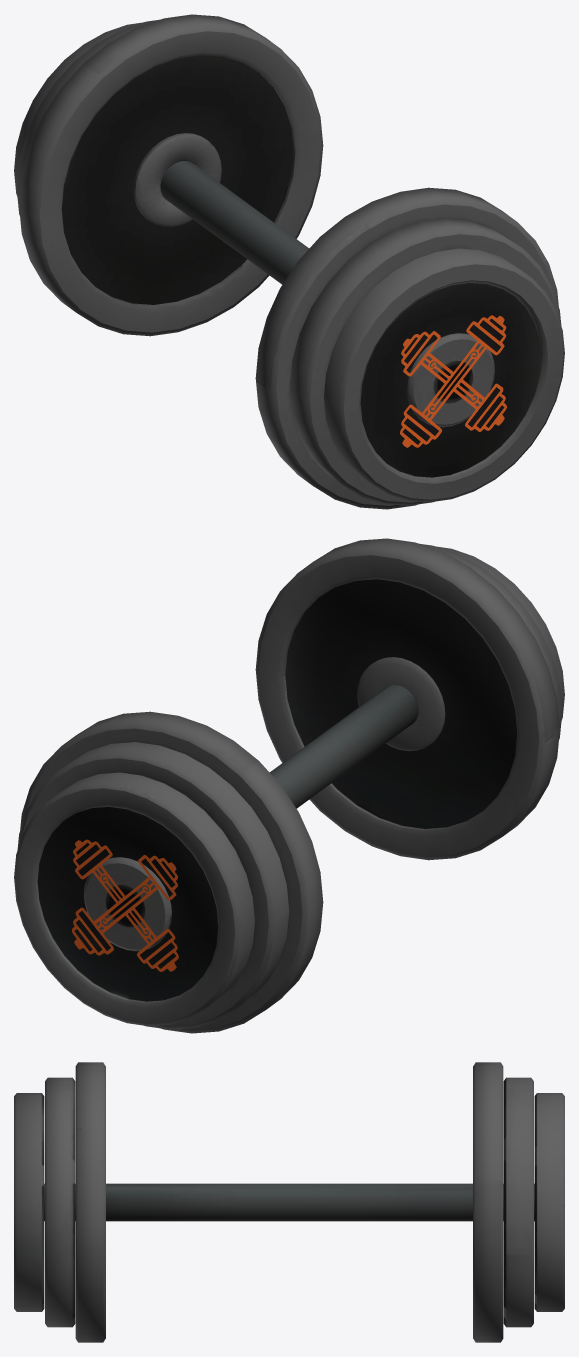
Rendered from dumbbell.glb.
The picture shows the model from 3 angles, top to bottom: view 1: azimuth 30°, elevation 25°; view 2: azimuth 150°, elevation 25°; view 3: azimuth 270°, elevation 25°; orthographic projection. The views are drawn at different scales.
Visible parts, largest first — view 1: dumbbell; view 2: dumbbell; view 3: dumbbell.
Boxes of the visible parts, bbox=[...] form: dumbbell: bbox=[14, 14, 564, 509]; dumbbell: bbox=[14, 538, 564, 1033]; dumbbell: bbox=[14, 1062, 564, 1342].
Bounding box in the file's own units: 4.62 × 4.62 × 9.07.
2 materials, 2 textured.
